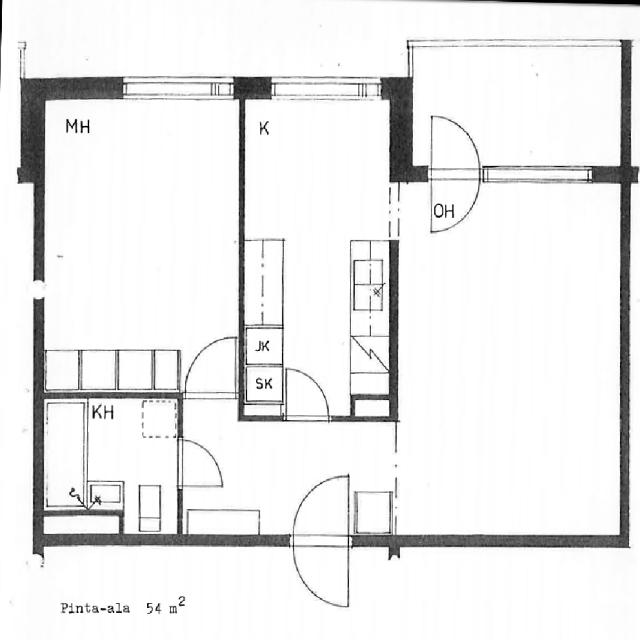door: (286, 468, 354, 612), (422, 107, 484, 230), (179, 330, 239, 400), (172, 431, 229, 498), (280, 361, 336, 428)
window: (262, 72, 388, 105), (116, 72, 238, 105), (480, 157, 598, 190)
zone: (397, 171, 626, 546), (32, 82, 245, 394), (240, 83, 395, 416), (37, 394, 182, 539), (180, 327, 259, 408), (240, 326, 286, 421), (427, 183, 476, 236)
